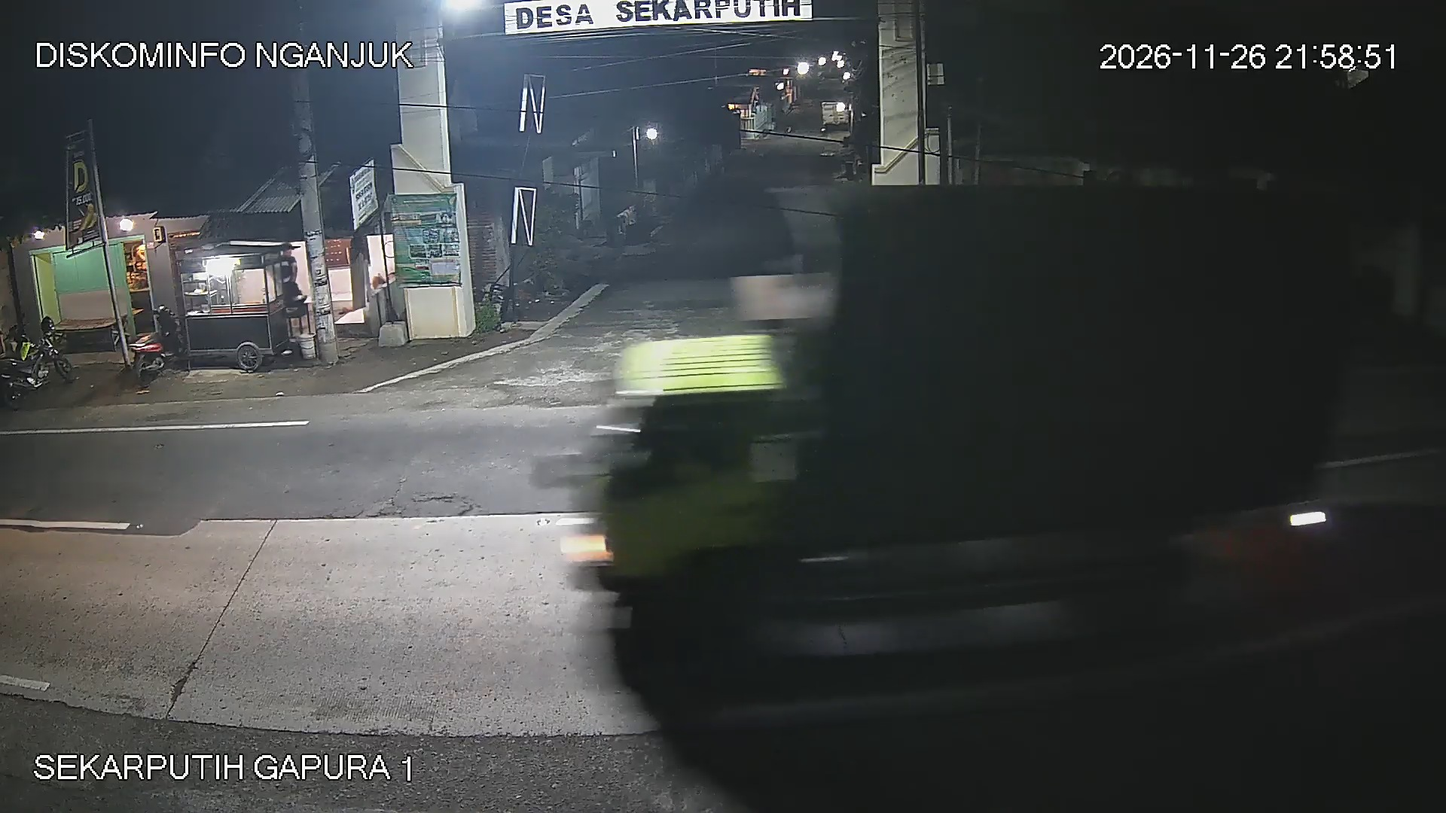Gerobak: (169, 239, 309, 372)
